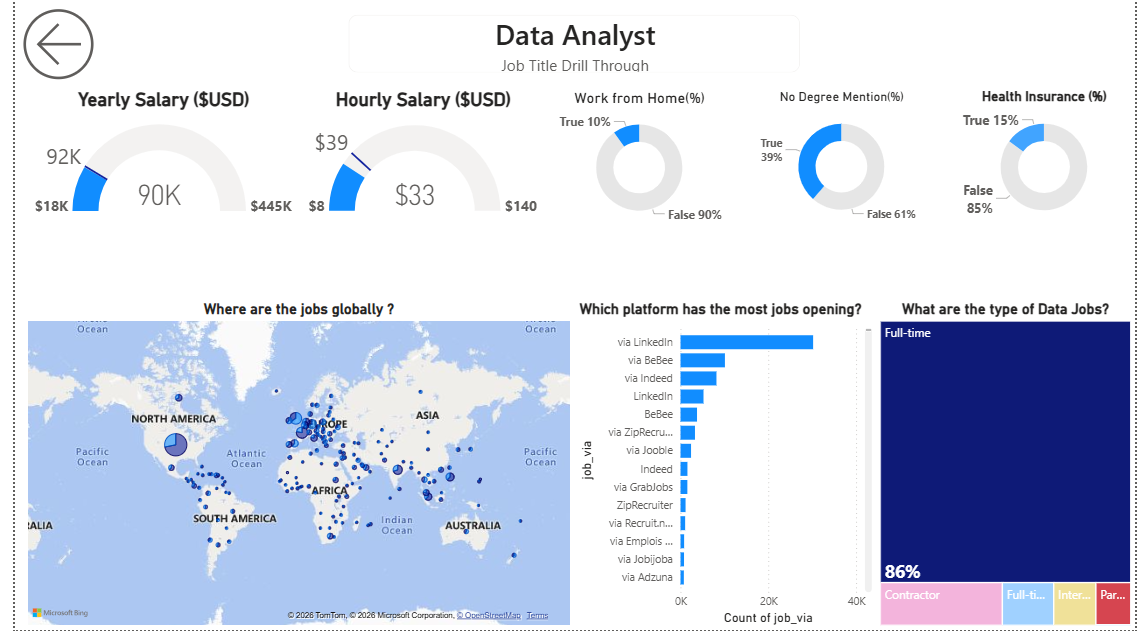

The dashboard page shown, as its layout file describes it:
{"tool":"powerbi","page":{"name":"Job Title Drill Through","canvas":[1280,720],"ordinal":1},"visuals":[{"type":"cardVisual","fields":{"Data":["Min(job_postings_flat.job_title_short)1"]},"box":[364.1,0,550.8,100.8],"z":0},{"type":"actionButton","box":[0,0,99.4,100.8],"z":1000},{"type":"gauge","title":"Yearly Salary ($USD)","fields":{"Y":["Median(job_postings_flat.salary_year_avg)"],"MaxValue":["Max(job_postings_flat.salary_year_avg)"],"MinValue":["Min(job_postings_flat.salary_year_avg)"],"TargetValue":["Avg(job_postings_flat.salary_year_avg)"]},"box":[12.4,100.8,313.5,161.7],"z":2000},{"type":"gauge","title":"Hourly Salary ($USD)","fields":{"Y":["Median(job_postings_flat.salary_hour_avg)"],"TargetValue":["Avg(job_postings_flat.salary_hour_avg)"],"MinValue":["Min(job_postings_flat.salary_hour_avg)"],"MaxValue":["Max(job_postings_flat.salary_hour_avg)"]},"box":[325.9,100.8,281.1,161.7],"z":3000},{"type":"donutChart","title":"Work from Home(%)","fields":{"Category":["job_postings_flat.job_work_from_home"],"Y":["CountNonNull(job_postings_flat.job_work_from_home)"]},"box":[619.5,100.8,214,161.7],"z":4000},{"type":"donutChart","title":"No Degree Mention(%)","fields":{"Category":["job_postings_flat.job_no_degree_mention"],"Y":["CountNonNull(job_postings_flat.job_no_degree_mention)"]},"box":[845.9,100.8,197.8,161.7],"z":5000},{"type":"donutChart","title":"Health Insurance (%)","fields":{"Y":["CountNonNull(job_postings_flat.job_health_insurance)"],"Category":["job_postings_flat.job_health_insurance"]},"box":[1073.5,100.8,206.5,161.7],"z":6000},{"type":"map","title":"Where are the jobs globally ?","fields":{"Category":["job_postings_flat.job_country"],"Series":["job_postings_flat.job_no_degree_mention"],"Size":["CountNonNull(job_postings_flat.job_title_short)"]},"box":[10,343.3,629.4,376.9],"z":7000},{"type":"treemap","title":"What are the type of Data Jobs?","fields":{"Group":["job_postings_flat.job_schedule_type"],"Values":["CountNonNull(job_postings_flat.job_skills)"]},"box":[984,343.3,296.1,376.9],"z":8000},{"type":"barChart","title":"Which platform has the most jobs opening?","fields":{"Category":["job_postings_flat.job_via"],"Y":["CountNonNull(job_postings_flat.job_via)"]},"box":[639.4,343.3,344.6,376.9],"z":9000}]}

Visuals, with their boxes in screenshot pixels (x1, y1, x2, y2), scaled from the page's 1280x720 canvas onto the 1138x631 screenshot:
cardVisual - Min(job_postings_flat.job_title_short)1: pyautogui.locateOnScreen(324, 0, 813, 88)
actionButton: pyautogui.locateOnScreen(0, 0, 88, 88)
"Yearly Salary ($USD)" gauge: pyautogui.locateOnScreen(11, 88, 290, 230)
"Hourly Salary ($USD)" gauge: pyautogui.locateOnScreen(290, 88, 540, 230)
"Work from Home(%)" donutChart: pyautogui.locateOnScreen(551, 88, 741, 230)
"No Degree Mention(%)" donutChart: pyautogui.locateOnScreen(752, 88, 928, 230)
"Health Insurance (%)" donutChart: pyautogui.locateOnScreen(954, 88, 1137, 230)
"Where are the jobs globally ?" map: pyautogui.locateOnScreen(9, 301, 568, 630)
"What are the type of Data Jobs?" treemap: pyautogui.locateOnScreen(875, 301, 1137, 630)
"Which platform has the most jobs opening?" barChart: pyautogui.locateOnScreen(568, 301, 875, 630)
